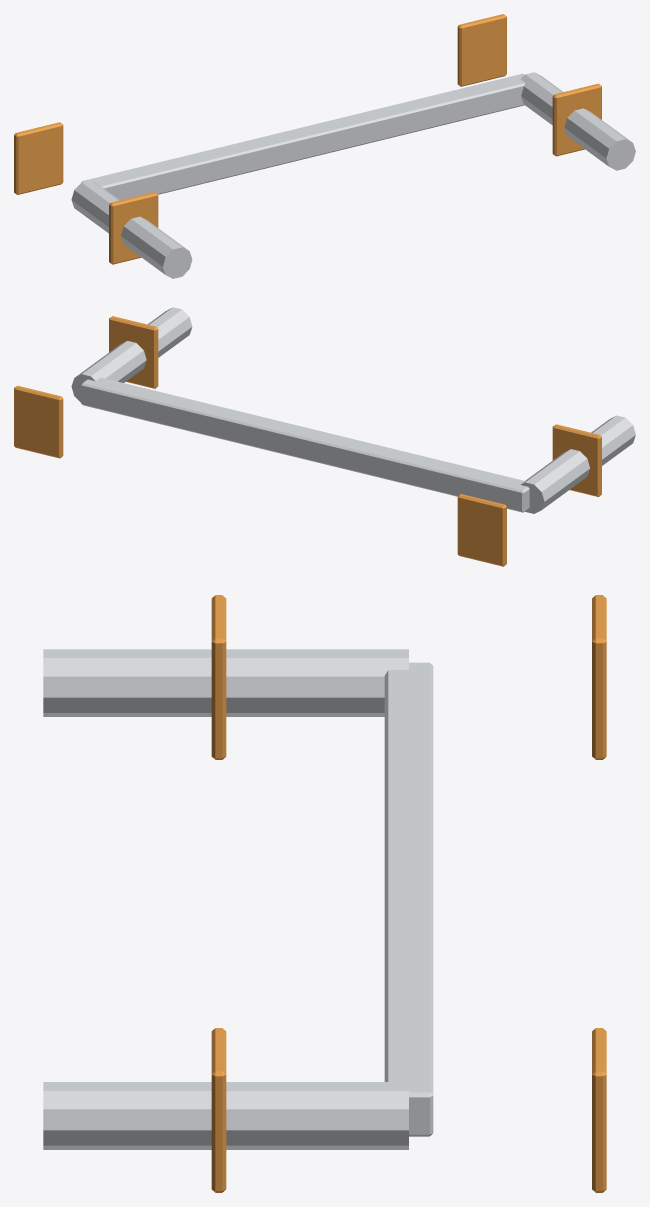
The model's file is rack-row-spacer-set.glb.
3 renders of one model, top to bottom at view 1: azimuth 30°, elevation 25°; view 2: azimuth 150°, elevation 25°; view 3: azimuth 270°, elevation 25°, orthographic. The views are drawn at different scales.
Parts seen in each view (by area): view 1: rack-row-spacer; view 2: rack-row-spacer; view 3: rack-row-spacer.
Part boxes in pixels (box(x1,y1,x2,y2)): rack-row-spacer: box(14, 14, 635, 278); rack-row-spacer: box(14, 307, 635, 566); rack-row-spacer: box(43, 595, 606, 1192).
Size of the model in its own units: 0.93 by 0.11 by 0.462.
